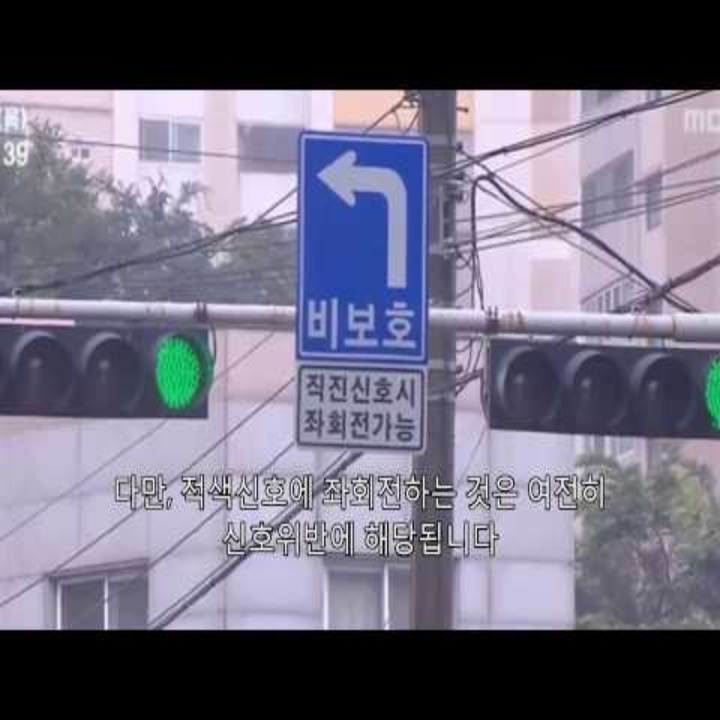left: (305, 141, 418, 297)
